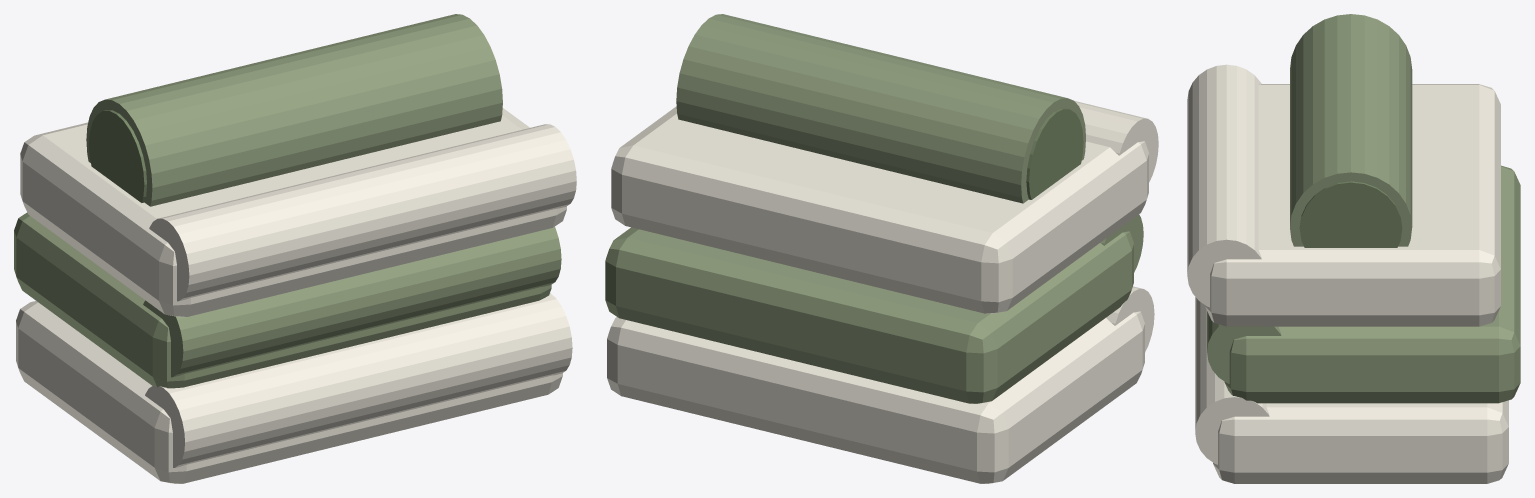
Rendered from towels-folded.glb.
The picture shows the model from 3 angles, left to right: view 1: azimuth 30°, elevation 25°; view 2: azimuth 150°, elevation 25°; view 3: azimuth 270°, elevation 25°; orthographic projection. The views are drawn at different scales.
Parts seen in each view (by area): view 1: roll, fold-2, fold-0, towel-2, fold-1, towel-0, towel-1, roll-cap; view 2: towel-2, towel-1, towel-0, roll, roll-cap, fold-2, fold-0, fold-1; view 3: towel-2, towel-1, towel-0, roll, fold-2, roll-cap.001, fold-0, fold-1.
Boxes of the visible parts, <box> form: roll: <box>86,14,502,206</box>; fold-2: <box>149,124,576,301</box>; fold-0: <box>145,293,572,467</box>; towel-2: <box>20,108,566,316</box>; fold-1: <box>143,226,561,377</box>; towel-0: <box>16,301,562,483</box>; towel-1: <box>14,212,551,388</box>; roll-cap: <box>89,110,146,202</box>; towel-2: <box>611,106,1148,313</box>; towel-1: <box>605,227,1133,403</box>; towel-0: <box>607,311,1144,483</box>; roll: <box>676,14,1085,203</box>; roll-cap: <box>1026,108,1083,199</box>; fold-2: <box>1074,100,1158,182</box>; fold-0: <box>1106,286,1154,352</box>; fold-1: <box>1100,214,1143,272</box>; towel-2: <box>1205,84,1500,326</box>; towel-1: <box>1224,165,1520,403</box>; towel-0: <box>1213,400,1508,483</box>; roll: <box>1290,14,1412,246</box>; fold-2: <box>1187,64,1261,307</box>; roll-cap.001: <box>1299,181,1402,247</box>; fold-0: <box>1195,297,1269,464</box>; fold-1: <box>1207,311,1281,383</box>.
Bounding box in the file's own units: 0.44 × 0.344 × 0.338.
